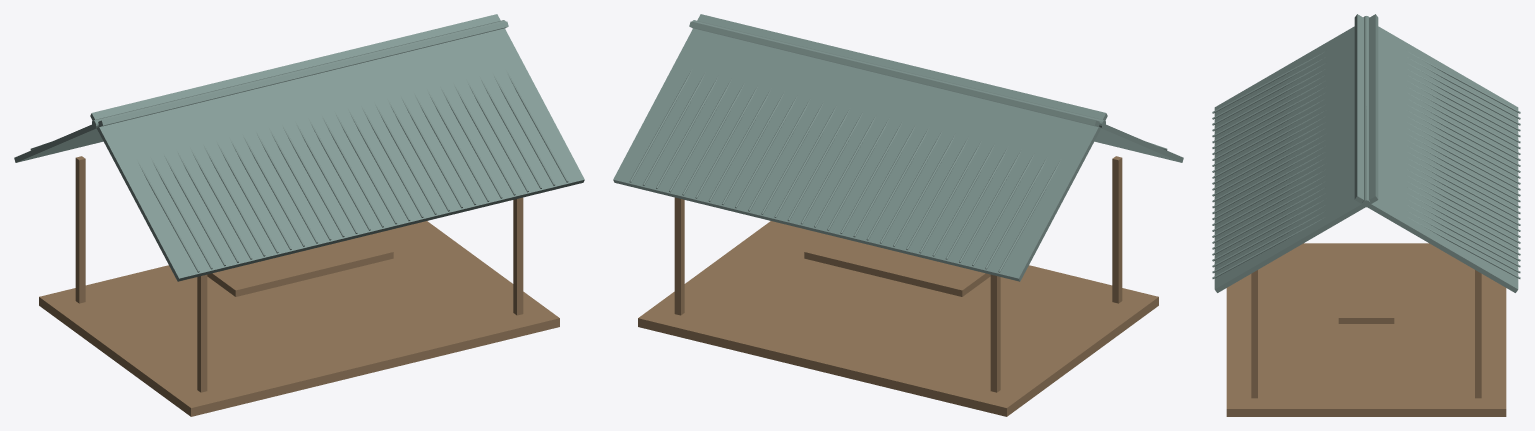
The model's file is beach.glb.
3 renders of one model, left to right at view 1: azimuth 30°, elevation 25°; view 2: azimuth 150°, elevation 25°; view 3: azimuth 270°, elevation 25°, orthographic. The views are drawn at different scales.
Parts seen in each view (by area): view 1: roof, wood; view 2: roof, wood; view 3: roof, wood.
Boxes of the visible parts, x1,y1,x2,y2 form: roof: (14, 14, 584, 281); wood: (39, 156, 559, 416); roof: (613, 14, 1183, 281); wood: (638, 156, 1158, 416); roof: (1212, 14, 1520, 292); wood: (1226, 243, 1506, 416).
Size of the model in its own units: 7.8 by 4.52 by 5.52.
